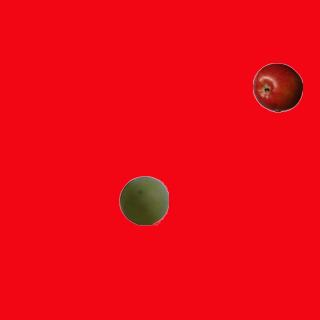Apple Braeburn: (252, 62, 302, 112)
Grape White 4: (118, 175, 168, 225)
